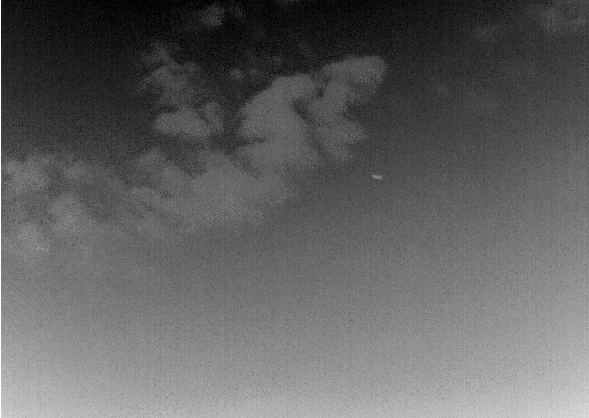dim target: (371, 173, 383, 180)
